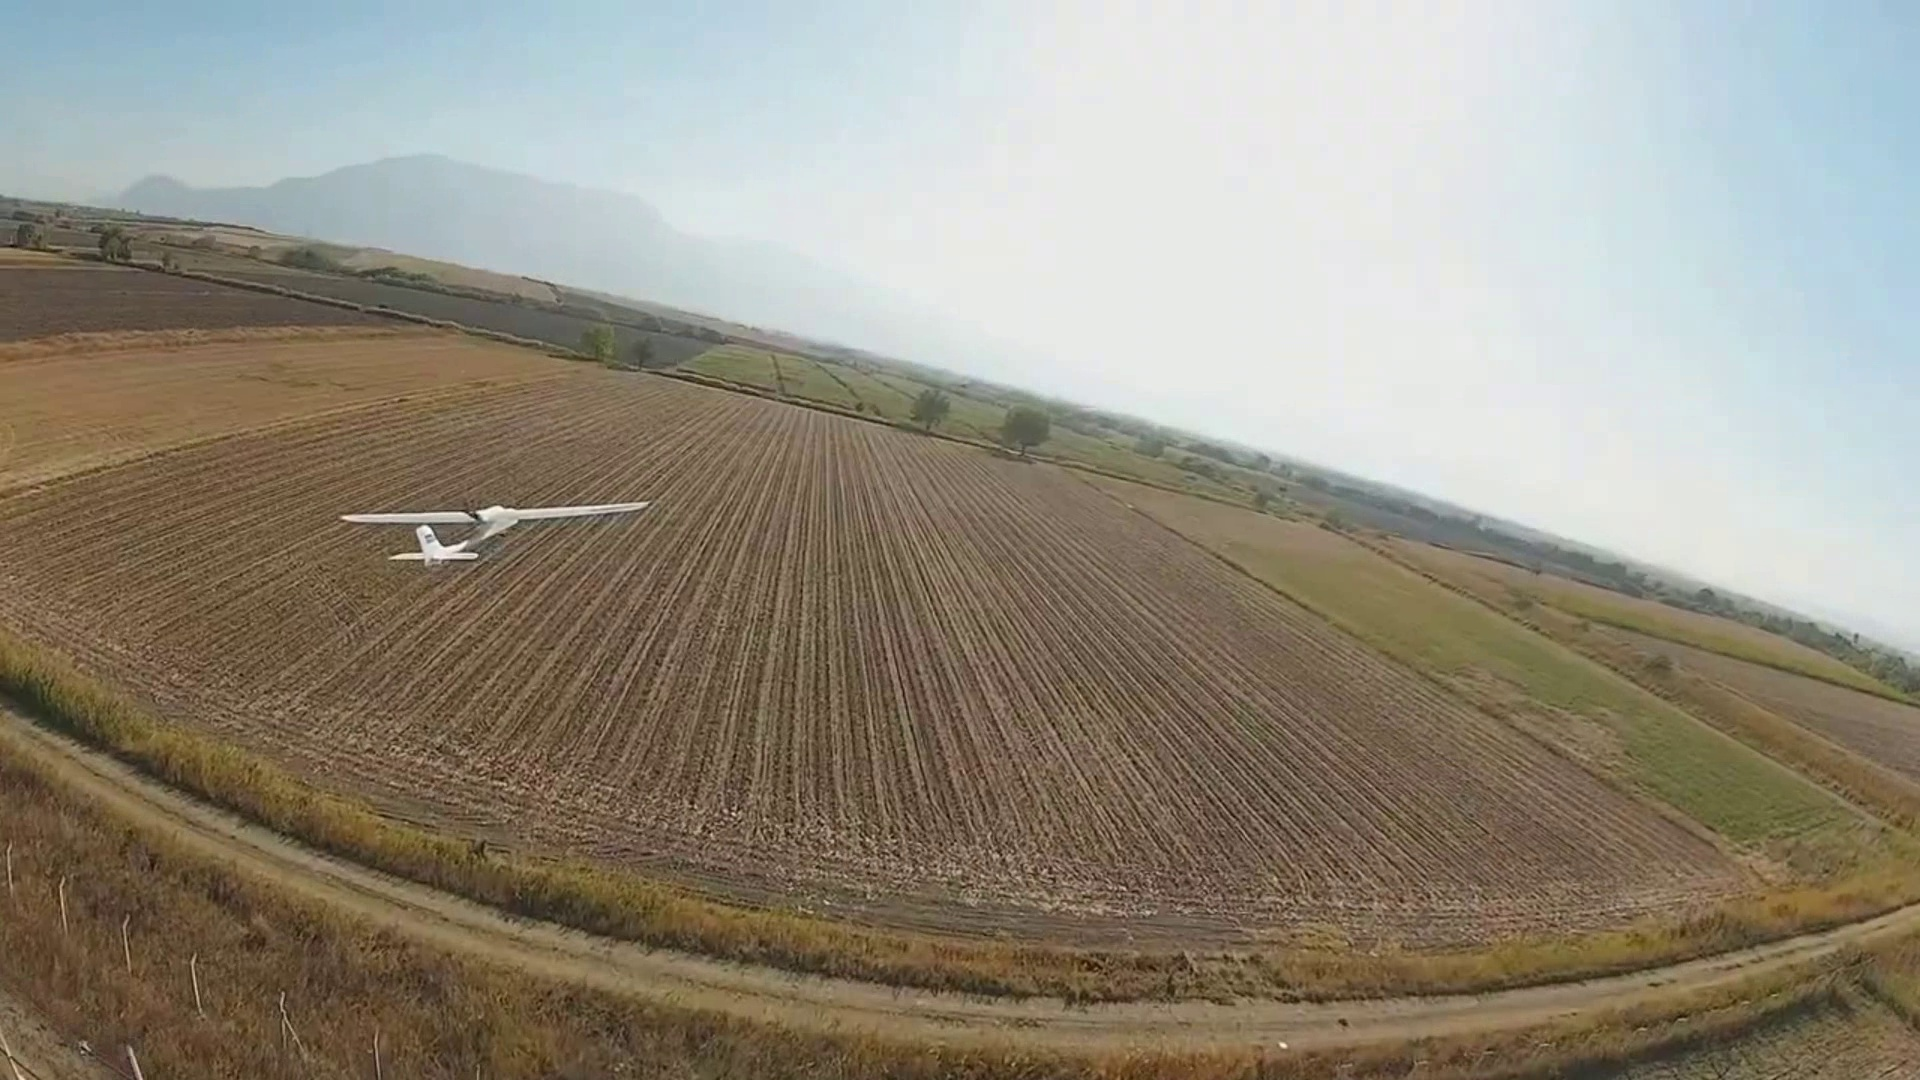airplane: (338, 500, 649, 564)
